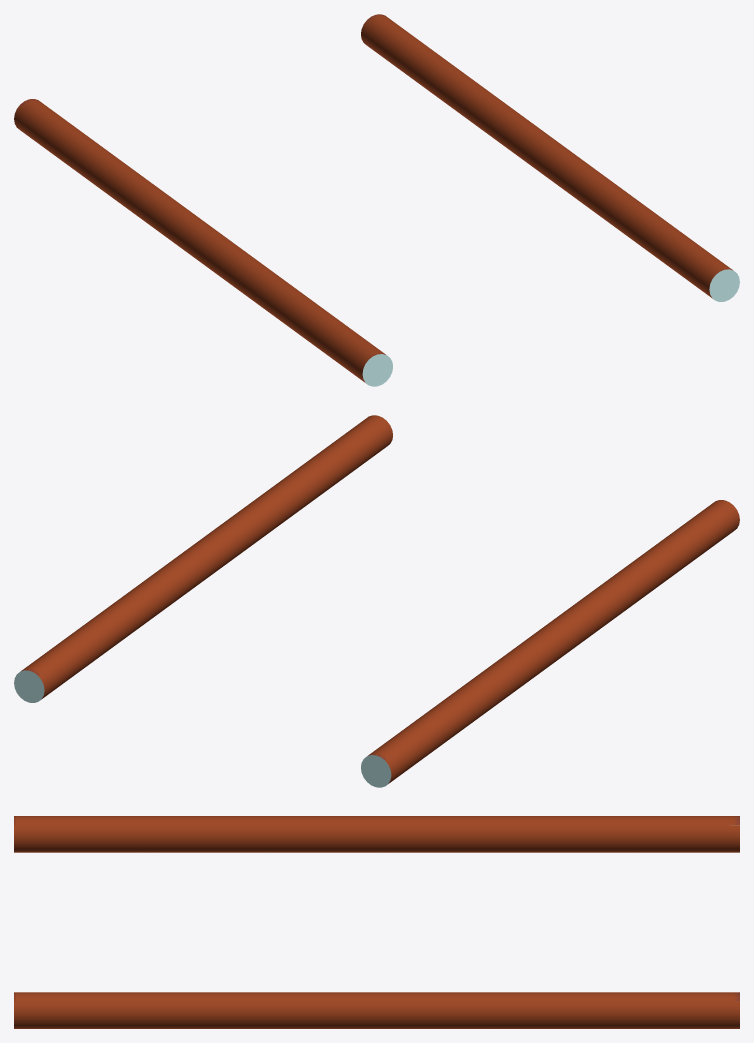
File: TurretGuns.obj
The picture shows the model from 3 angles, top to bottom: view 1: azimuth 30°, elevation 25°; view 2: azimuth 150°, elevation 25°; view 3: azimuth 270°, elevation 25°; orthographic projection. The views are drawn at different scales.
Visible parts, largest first — view 1: TurretGuns:pCylinder2; view 2: TurretGuns:pCylinder2; view 3: TurretGuns:pCylinder2.
Part boxes in pixels (x1=…): TurretGuns:pCylinder2: x1=14, y1=14, x2=739, y2=386; TurretGuns:pCylinder2: x1=14, y1=415, x2=739, y2=787; TurretGuns:pCylinder2: x1=14, y1=816, x2=739, y2=1028.
Size of the model in its own units: 1.48 by 0.12 by 2.37.
1 material, 1 textured.
